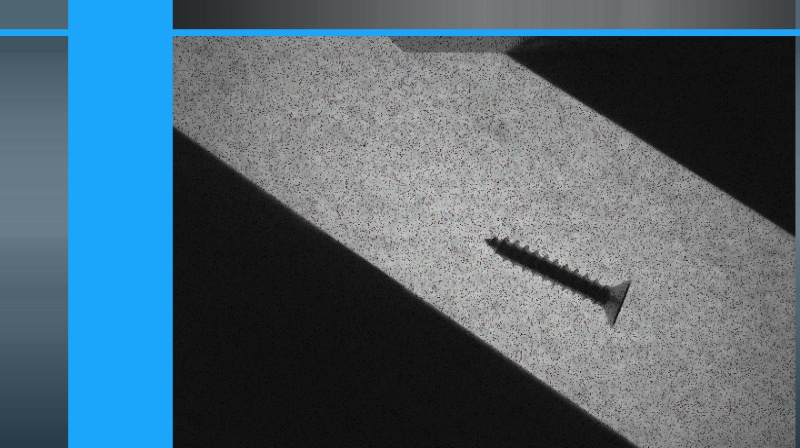S001: (481, 229, 633, 330)
